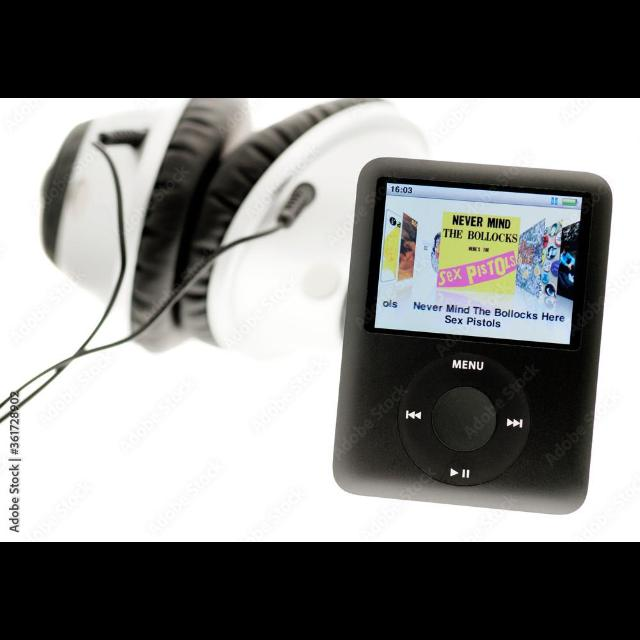Music-Player: (328, 155, 626, 517)
